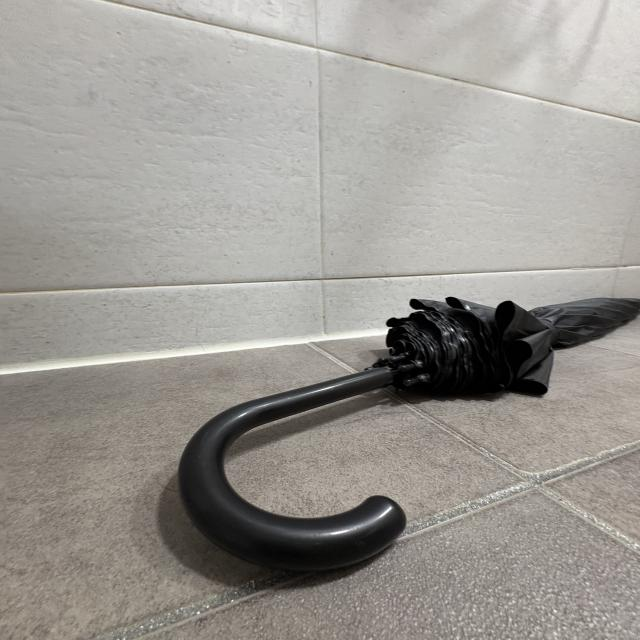umbrella: (178, 294, 640, 571)
